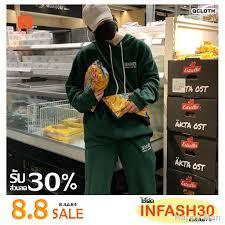pants: (83, 132, 158, 194)
sweater: (64, 32, 160, 139)
